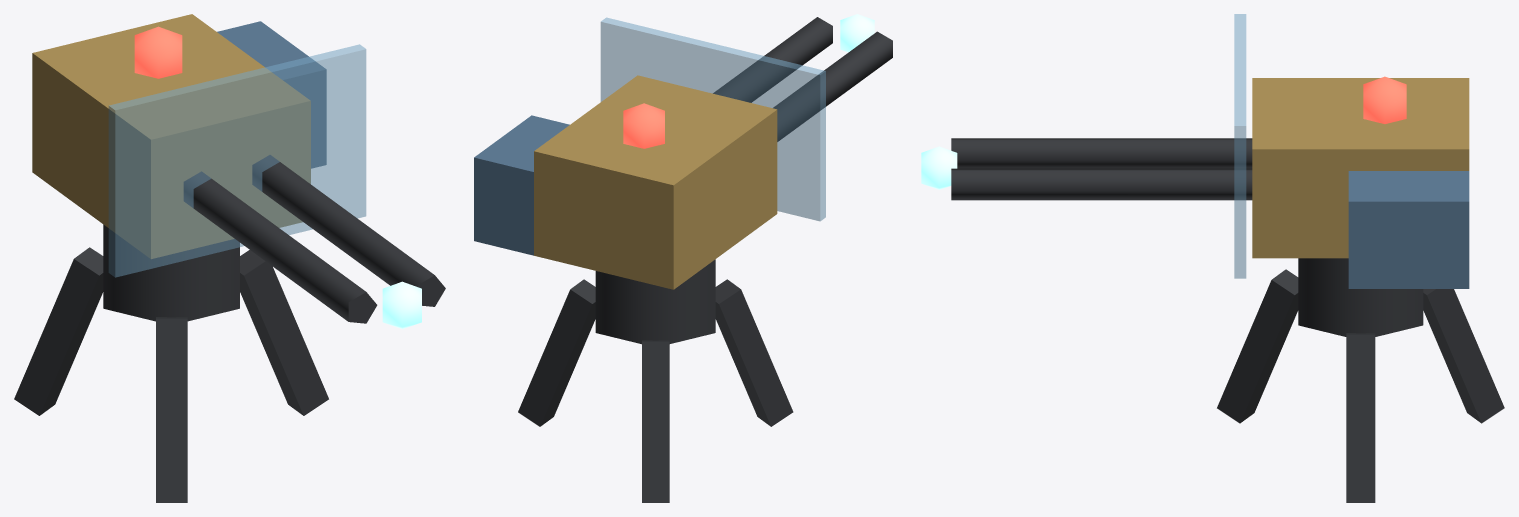
Rendered from unit_mil_sentry_a10_lod1.glb.
3 renders of one model, left to right at view 1: azimuth 30°, elevation 25°; view 2: azimuth 150°, elevation 25°; view 3: azimuth 270°, elevation 25°, orthographic. The views are drawn at different scales.
Visible parts, largest first — view 1: turret, body; view 2: turret, body; view 3: turret, body.
Boxes of the visible parts, left/top/right/bottom form: turret: left=32, top=14, right=445, bottom=329; body: left=14, top=224, right=328, bottom=502; turret: left=474, top=14, right=892, bottom=289; body: left=518, top=259, right=793, bottom=502; turret: left=921, top=14, right=1469, bottom=288; body: left=1217, top=258, right=1504, bottom=502.
Bounding box in the file's own units: 1.21 × 1.72 × 2.42.
